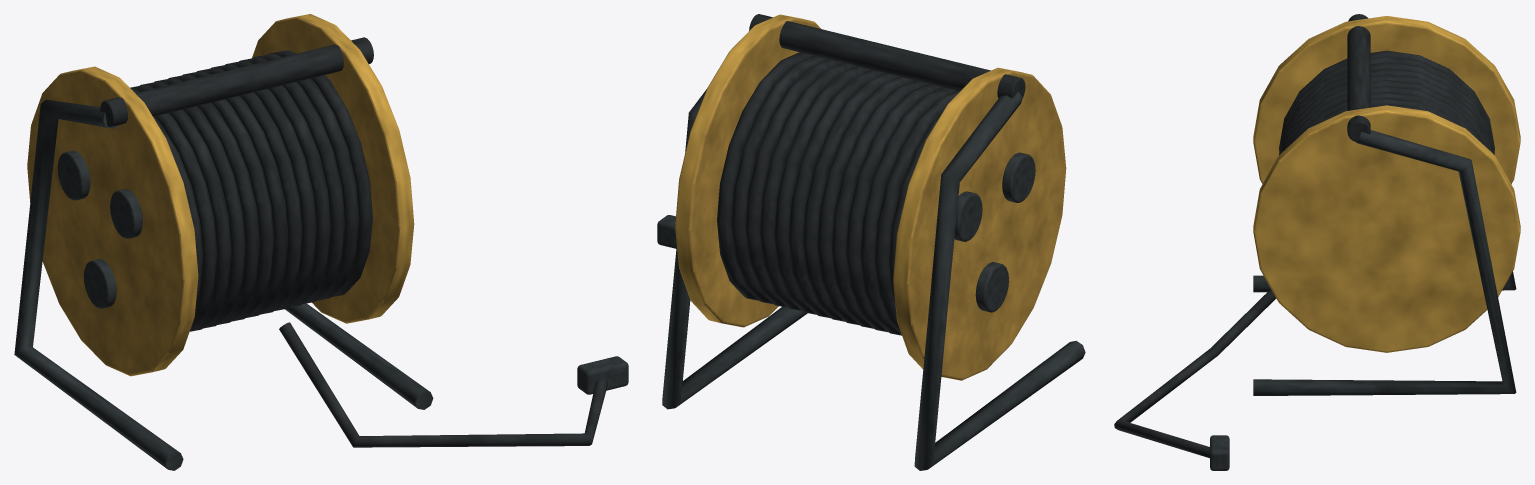
The model's file is GR_ExtensionReel_02.glb.
3 views of the same model, side by side, from view 1: azimuth 30°, elevation 25°; view 2: azimuth 150°, elevation 25°; view 3: azimuth 270°, elevation 25° (orthographic). The views are drawn at different scales.
Parts seen in each view (by area): view 1: Static; view 2: Static; view 3: Static.
Boxes of the visible parts, box(x1,y1,x2,y2) form: Static: box(14, 14, 628, 470); Static: box(657, 14, 1085, 470); Static: box(1114, 14, 1520, 470).
Size of the model in its own units: 0.7735 by 0.559 by 0.7294.
1 material, 1 textured.
